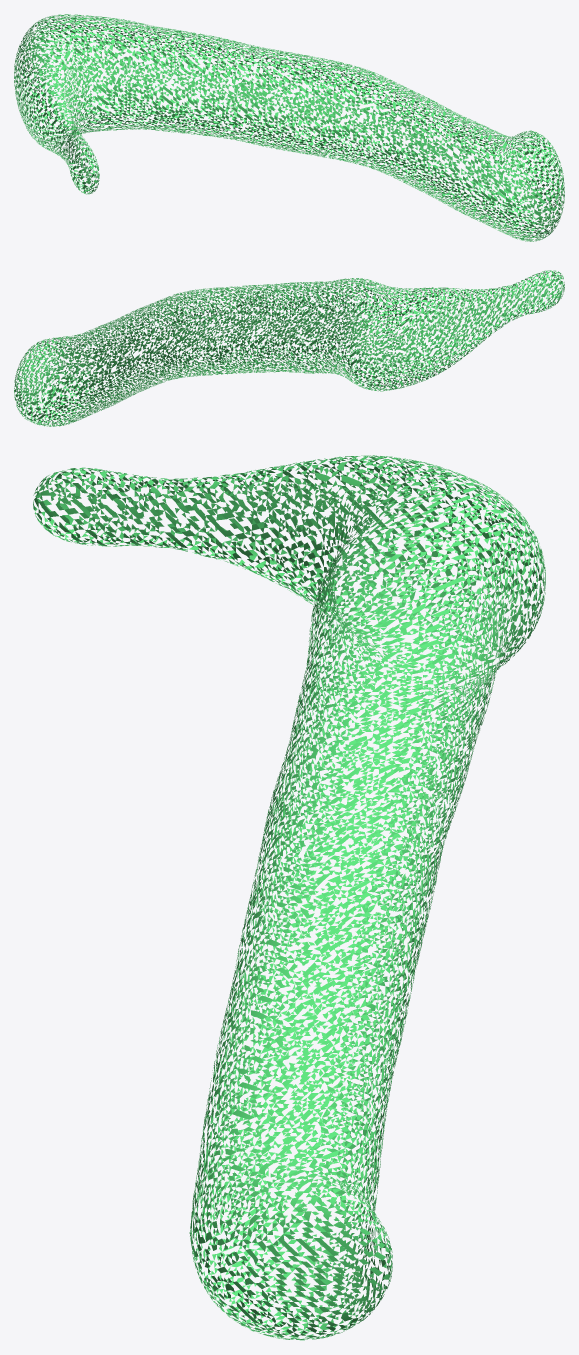
Rendered from morph_020.glb.
3 renders of one model, top to bottom at view 1: azimuth 30°, elevation 25°; view 2: azimuth 150°, elevation 25°; view 3: azimuth 270°, elevation 25°, orthographic. The views are drawn at different scales.
Size of the model in its own units: 125 by 62.57 by 58.67.
